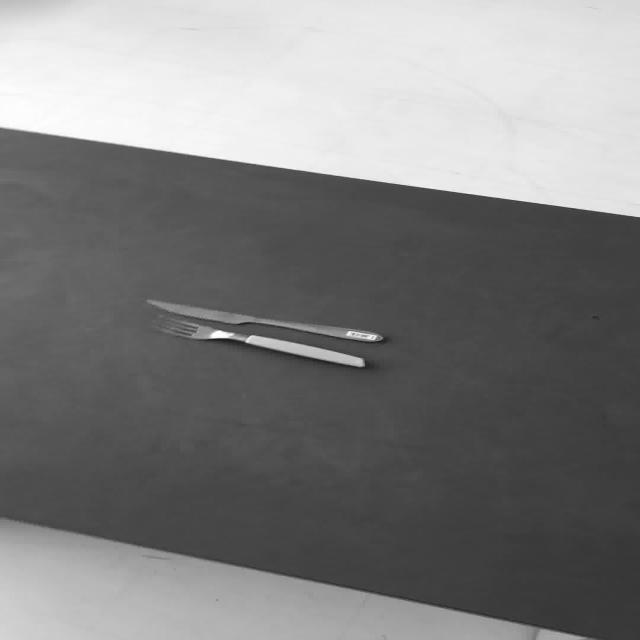fork: (154, 315, 365, 368)
knife fork: (143, 298, 383, 342)
